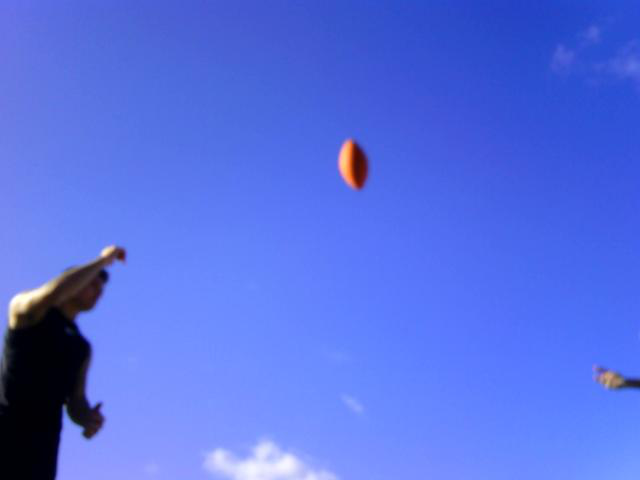football: (335, 134, 372, 194)
